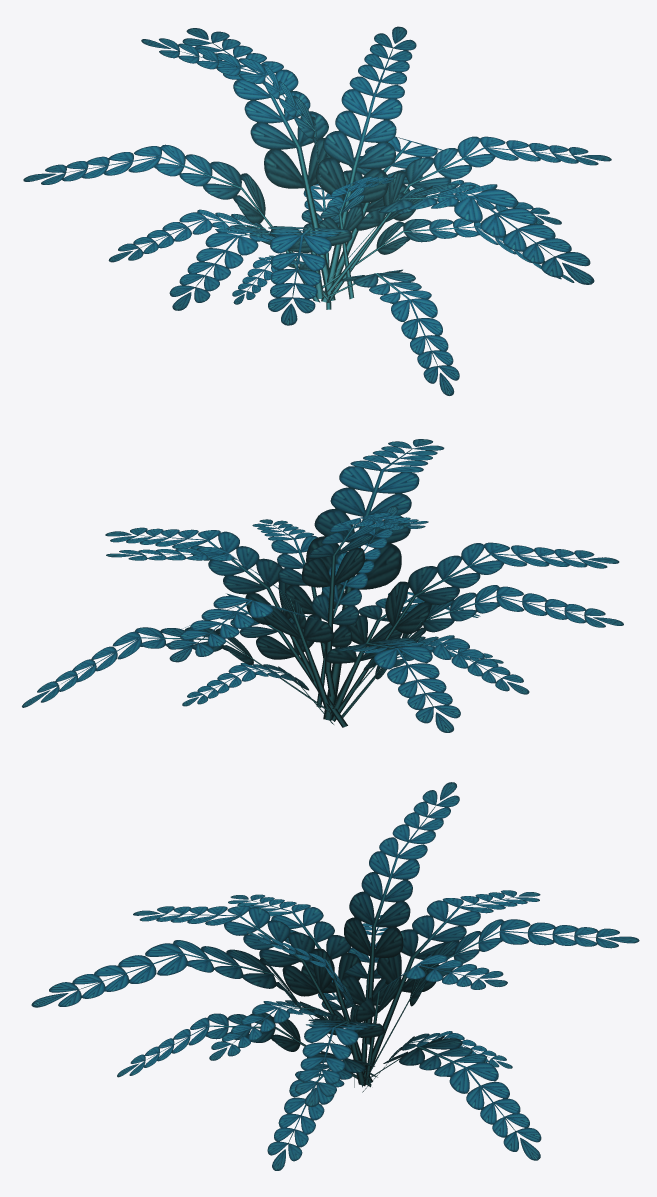
The model's file is Grass2.FBX.
3 renders of one model, top to bottom at view 1: azimuth 30°, elevation 25°; view 2: azimuth 150°, elevation 25°; view 3: azimuth 270°, elevation 25°, orthographic. The views are drawn at different scales.
Visible parts, largest first — view 1: Grass2; view 2: Grass2; view 3: Grass2.
Part boxes in pixels (box(x1,y1,x2,y2)): Grass2: box(23, 26, 611, 395); Grass2: box(22, 439, 623, 732); Grass2: box(31, 782, 639, 1170).
Size of the model in its own units: 88.14 by 44.12 by 101.
